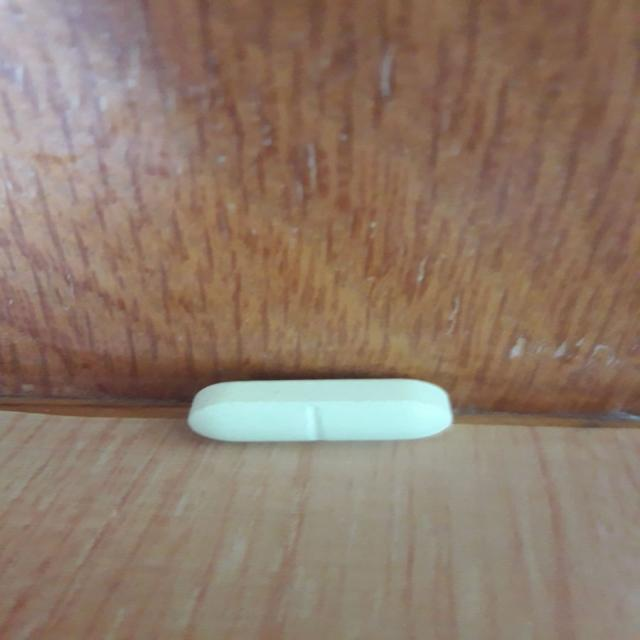pills: (174, 363, 467, 451)
